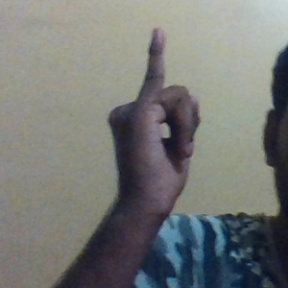I: (109, 28, 199, 205)
